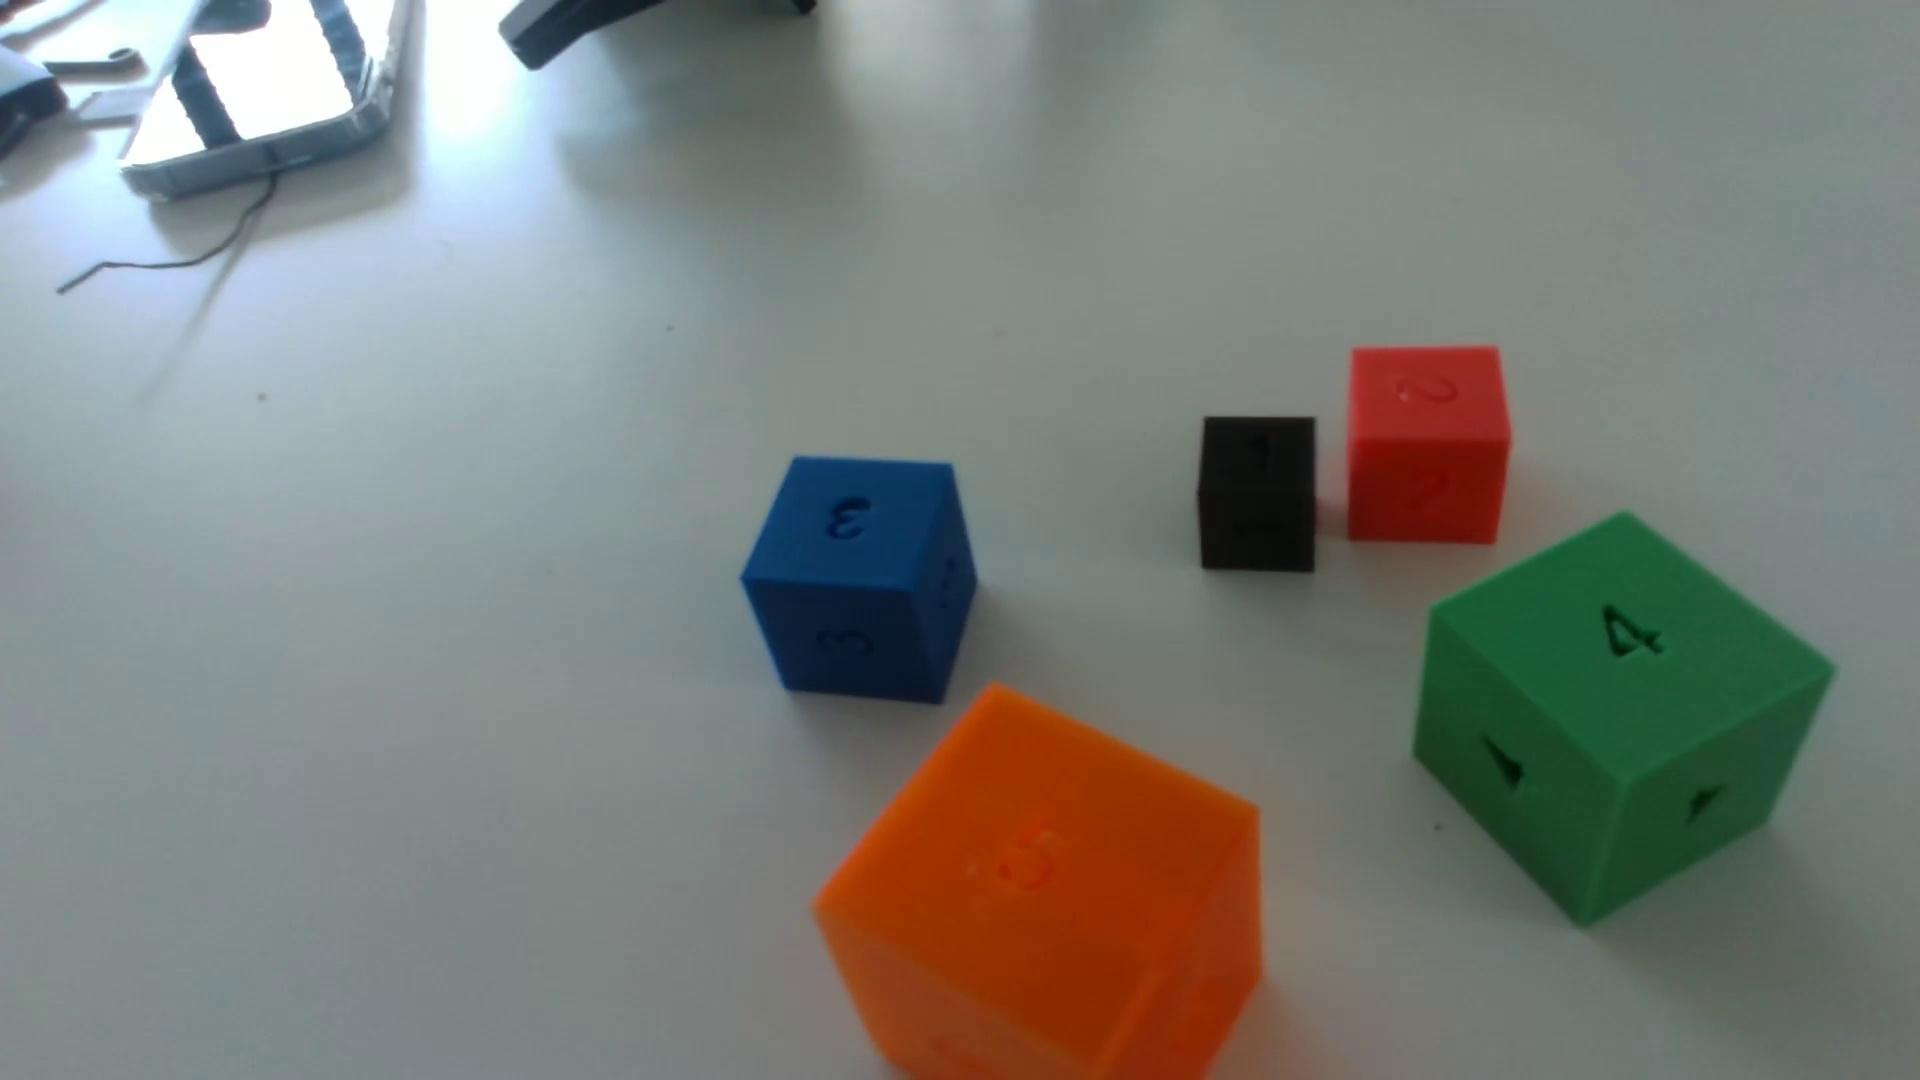black: (1196, 417, 1317, 574)
blue: (741, 458, 978, 705)
green: (1414, 513, 1834, 927)
orange: (814, 688, 1263, 1080)
red: (1346, 347, 1511, 546)
